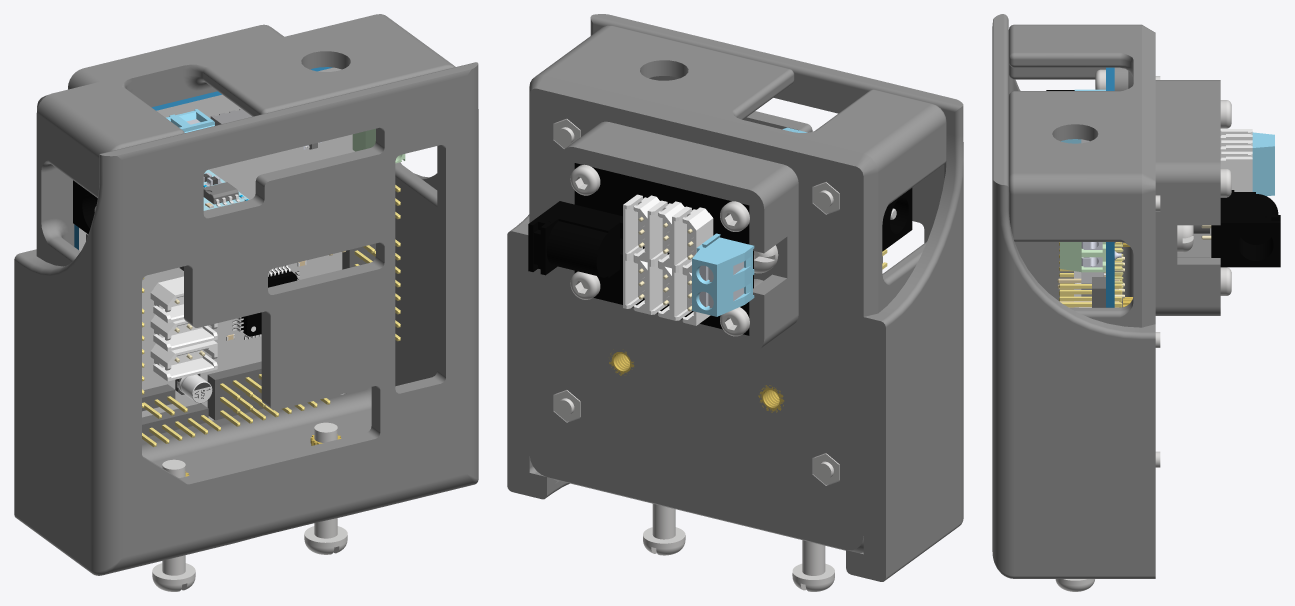
The model's file is ensambleArbotix.dae.
The picture shows the model from 3 angles, left to right: view 1: azimuth 30°, elevation 25°; view 2: azimuth 150°, elevation 25°; view 3: azimuth 270°, elevation 25°; orthographic projection. The views are drawn at different scales.
Visible parts, largest first — view 1: ensambleArbotix; view 2: ensambleArbotix; view 3: ensambleArbotix.
Boxes of the visible parts, x1,y1,x2,y2 form: ensambleArbotix: (14,14,478,591); ensambleArbotix: (507,14,963,591); ensambleArbotix: (992,14,1280,591).
Bounding box in the file's own units: 76 × 53 × 92.
